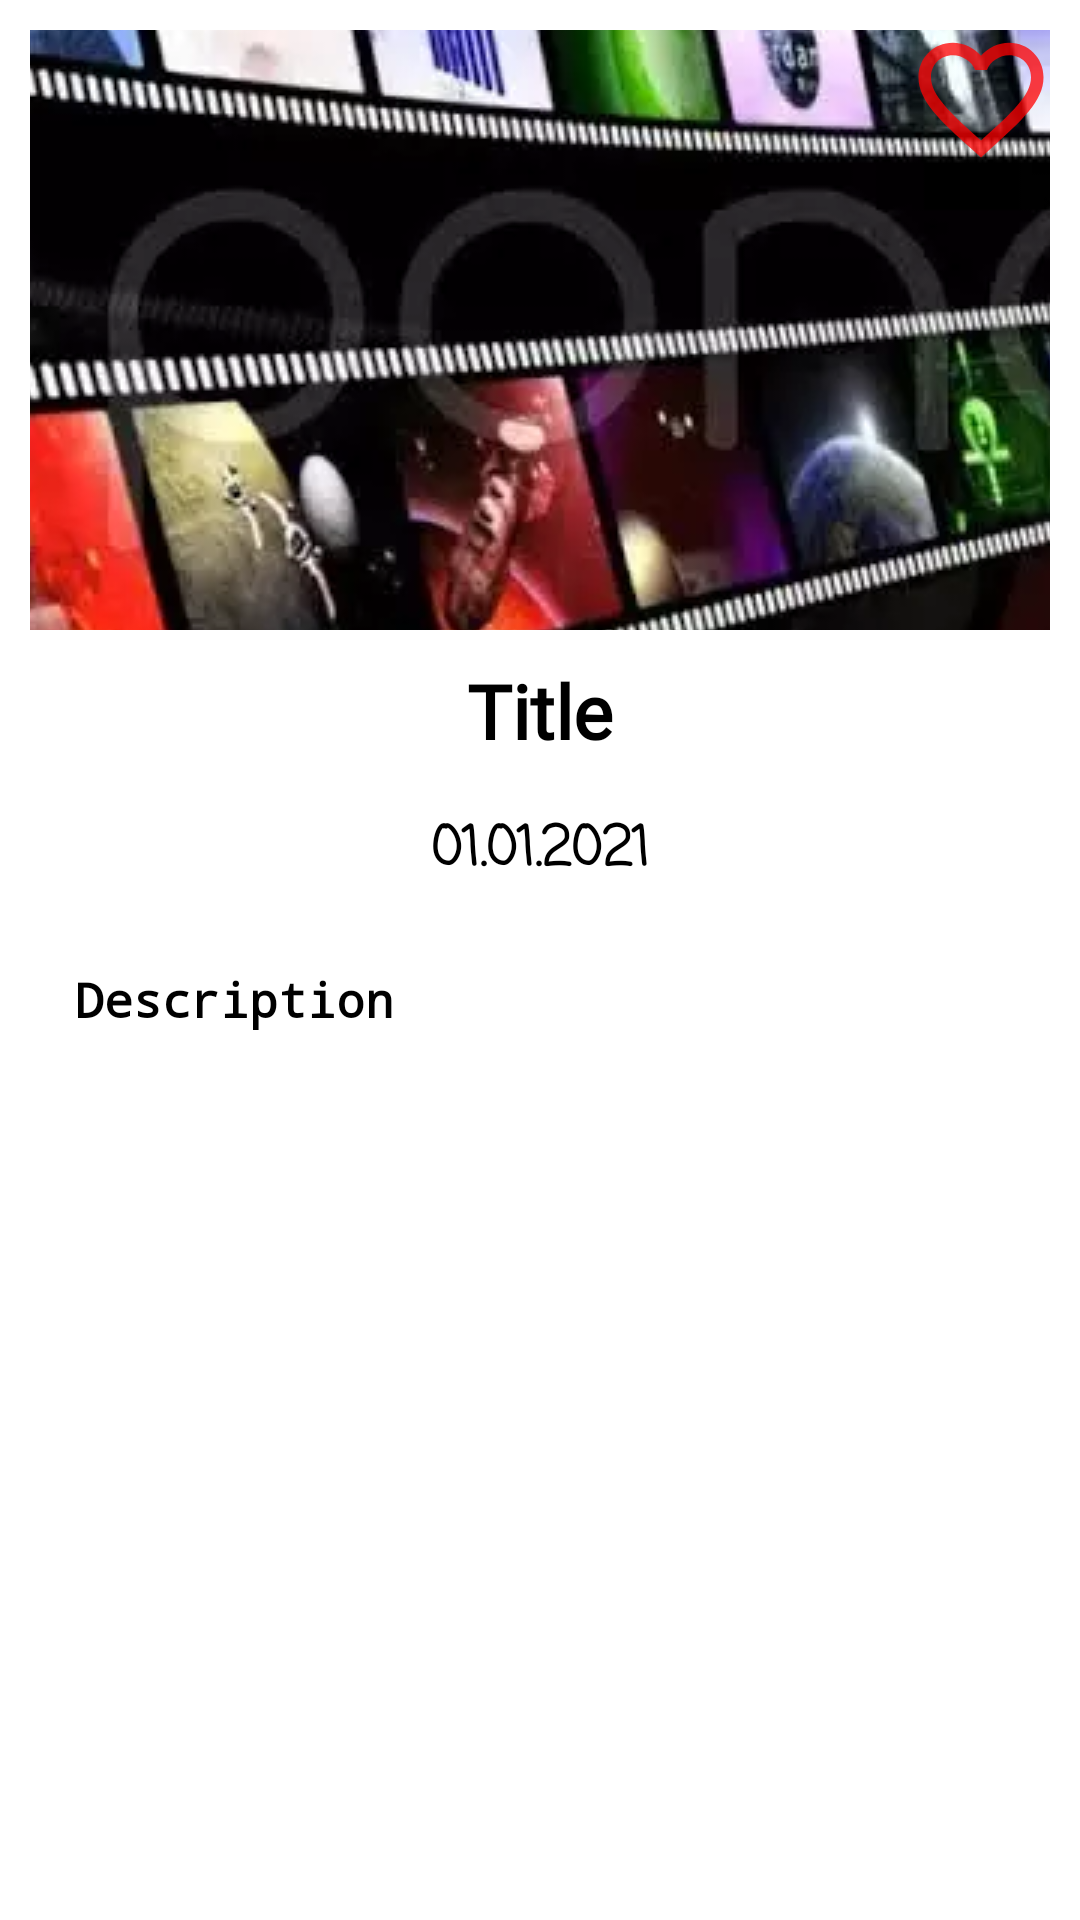

Icon click points for this 1080px x 1920px phone screenshot, format (x,y):
hearth: (981,99)
